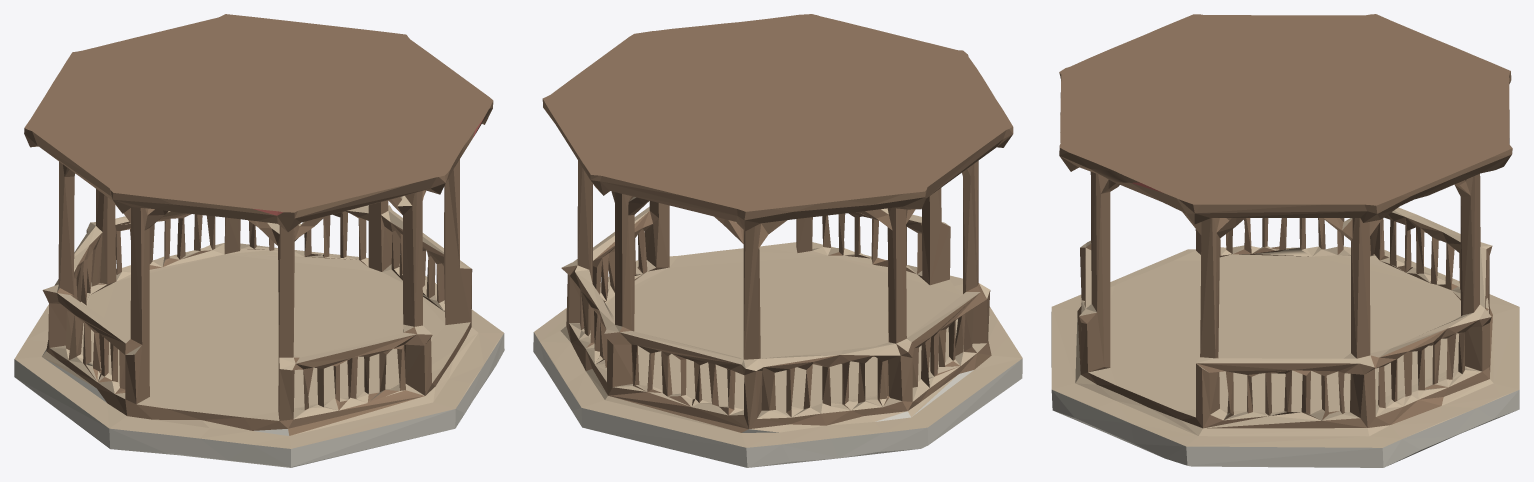
File: etape-2.glb
3 views of the same model, side by side, from view 1: azimuth 30°, elevation 25°; view 2: azimuth 150°, elevation 25°; view 3: azimuth 270°, elevation 25° (orthographic). The views are drawn at different scales.
Visible parts, largest first — view 1: geometry_0; view 2: geometry_0; view 3: geometry_0.
Boxes of the visible parts, box(x1,y1,x2,y2) form: geometry_0: box(14, 14, 504, 467); geometry_0: box(533, 14, 1022, 467); geometry_0: box(1051, 14, 1519, 467).
Size of the model in its own units: 0.9989 by 0.6108 by 0.999.
